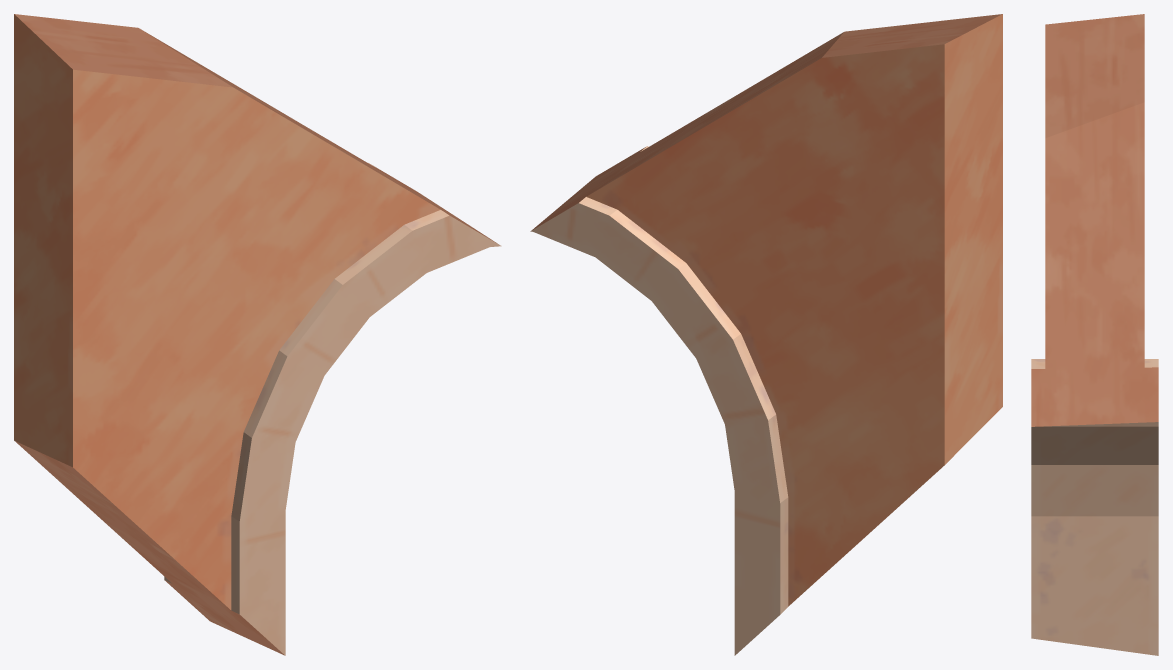
The model's file is wall2_upper_door_s08.fbx.
3 views of the same model, side by side, from view 1: azimuth 30°, elevation 25°; view 2: azimuth 150°, elevation 25°; view 3: azimuth 270°, elevation 25° (orthographic). The views are drawn at different scales.
Parts seen in each view (by area): view 1: wall2_upper_door_s08; view 2: wall2_upper_door_s08; view 3: wall2_upper_door_s08.
Boxes of the visible parts, x1,y1,x2,y2 form: wall2_upper_door_s08: (14,14,501,655); wall2_upper_door_s08: (530,14,1002,655); wall2_upper_door_s08: (1031,14,1158,655).
Bounding box in the file's own units: 4.12 × 6.21 × 1.28.
